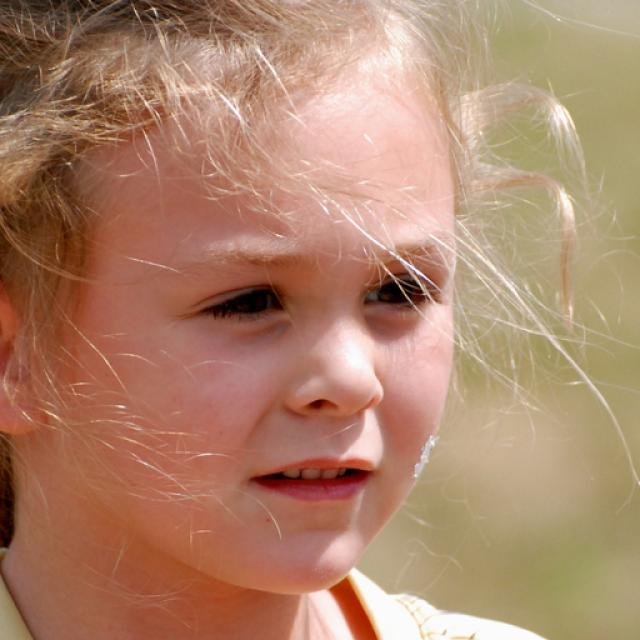happy: (59, 80, 458, 598)
